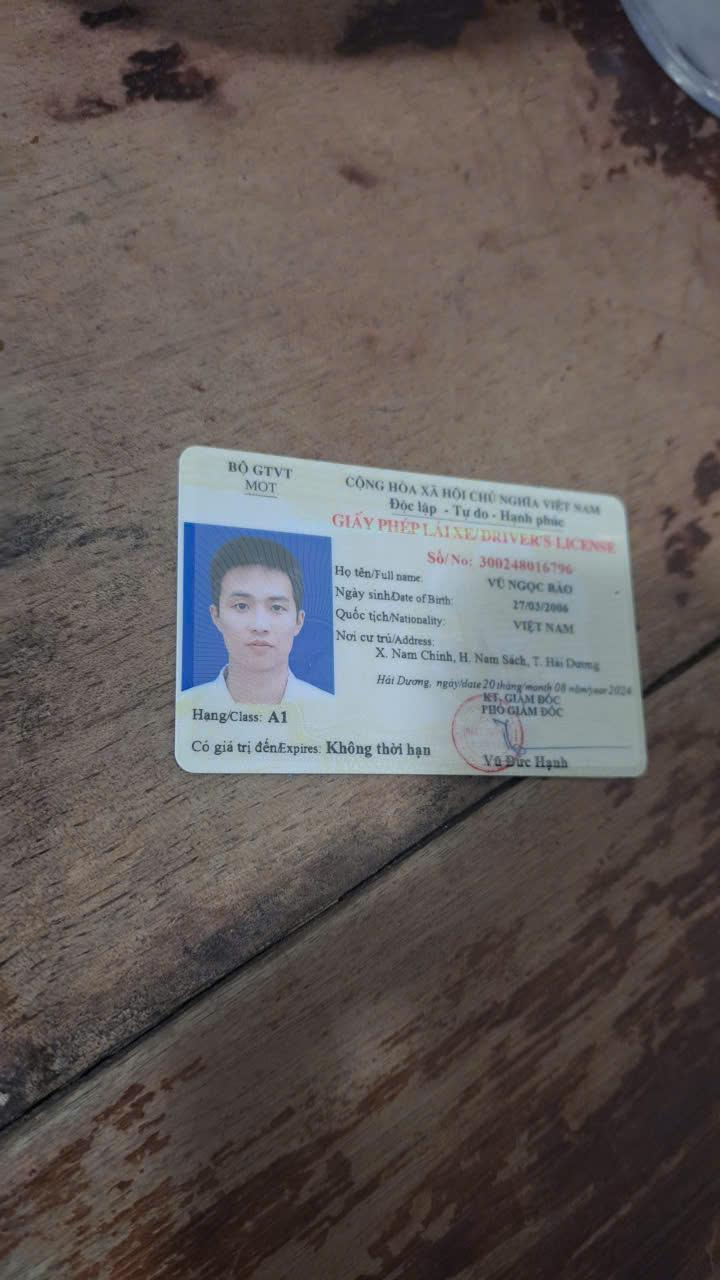gplx: (166, 439, 650, 782)
